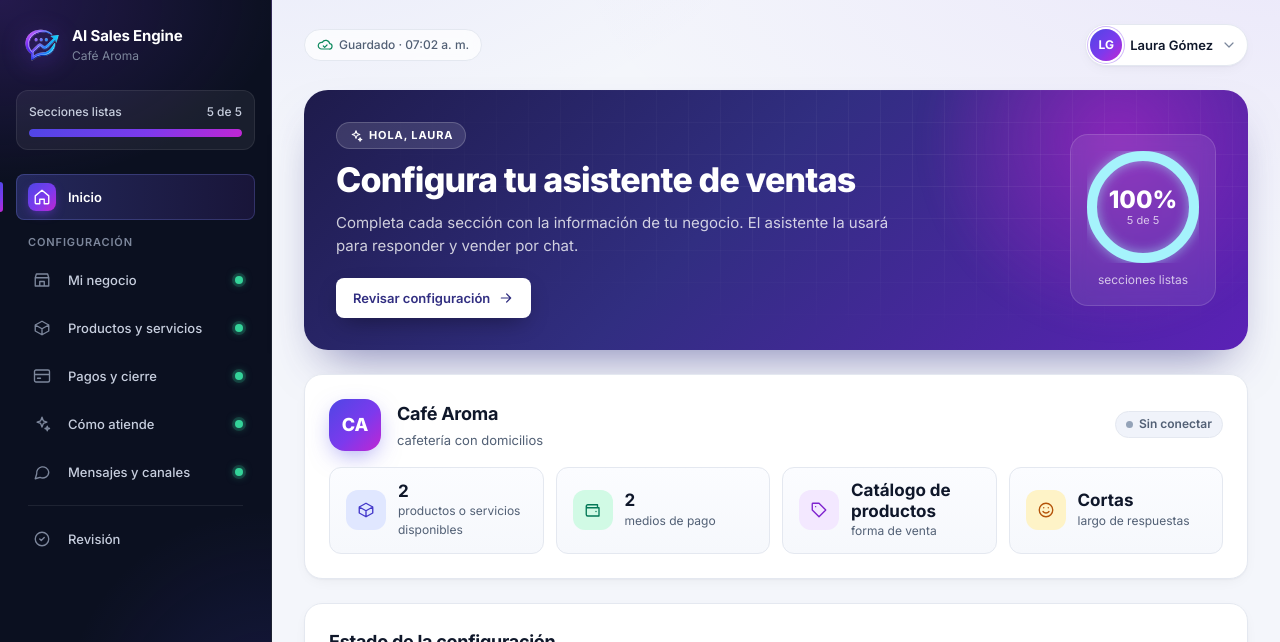
Panel de configuración › navega entre todas las secciones desde el menú lateral
Check: the heading "Configura tu asistente de ventas" is shown, box [336,161,896,199]
Click the link "Mi negocio" at (135, 285), box [27,272,243,298]
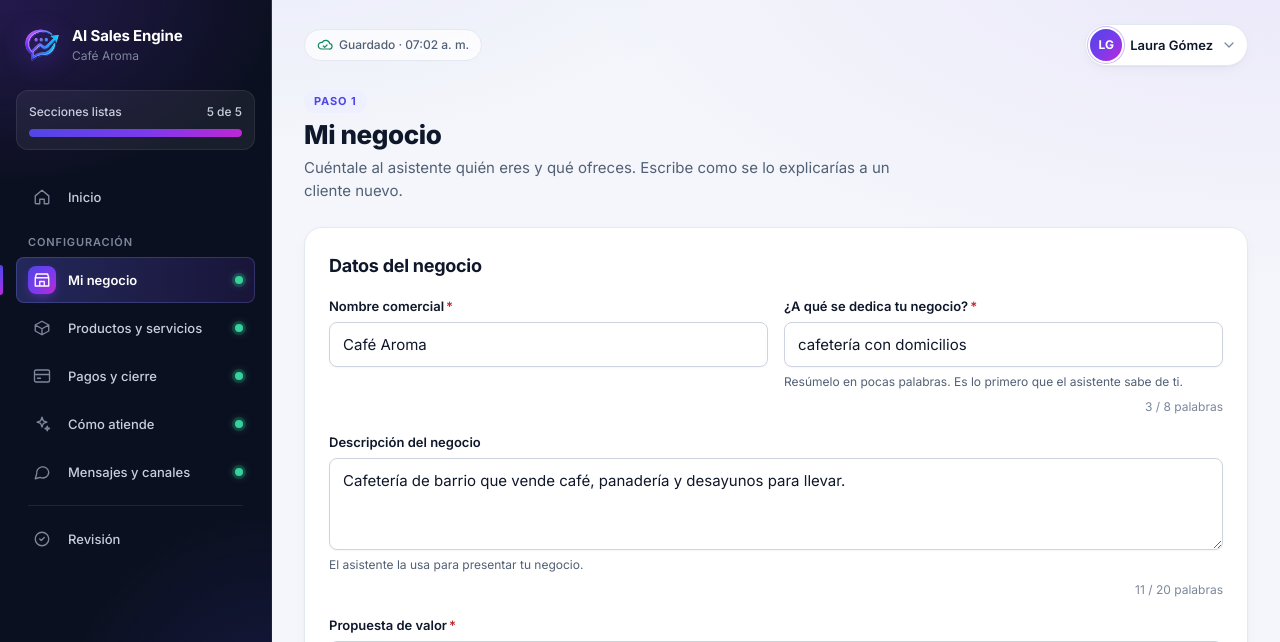
Check: the heading "Mi negocio" is shown, box [304,119,910,150]
Check: the text "Paso 1" is shown, box [304,90,367,113]
Click the link "Productos y servicios" at (135, 333), box [27,320,243,346]
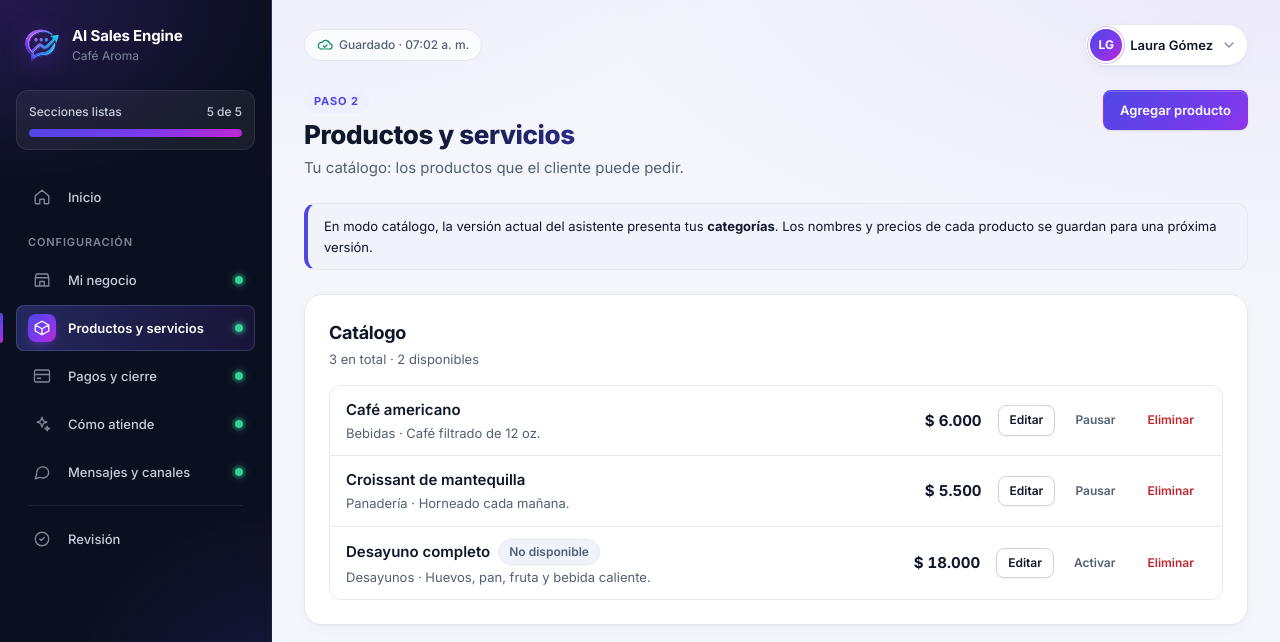
Check: the heading "Productos y servicios" is shown, box [304,119,684,150]
Check: the text "Paso 2" is shown, box [304,90,369,113]
Click the link "Pagos y cierre" at (135, 381), box [27,368,243,394]
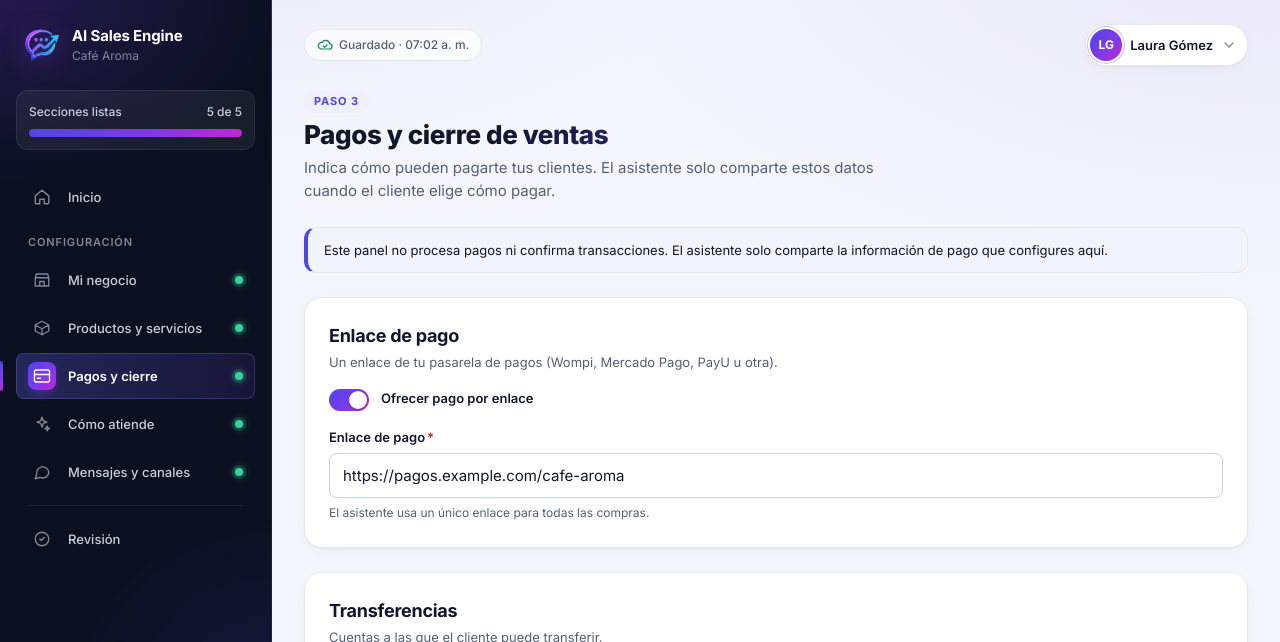
Check: the heading "Pagos y cierre de ventas" is shown, box [304,119,910,150]
Check: the text "Paso 3" is shown, box [304,90,369,113]
Click the link "Cómo atiende" at (135, 429), box [27,416,243,442]
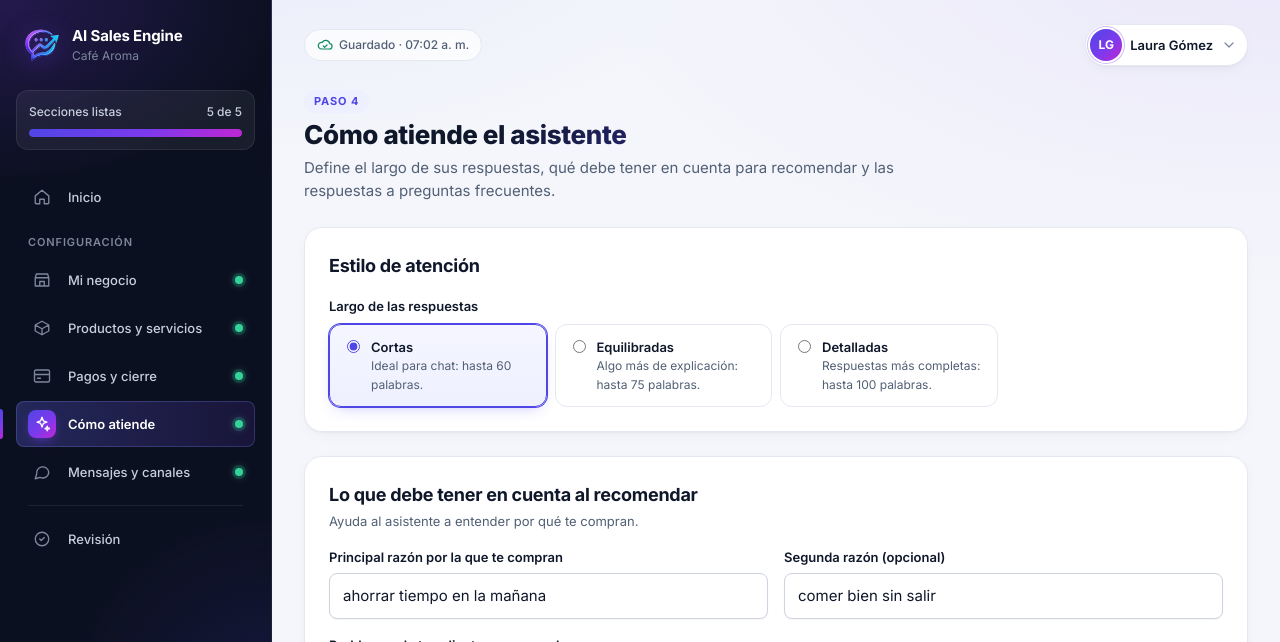
Check: the heading "Cómo atiende el asistente" is shown, box [304,119,910,150]
Check: the text "Paso 4" is shown, box [304,90,369,113]
Click the link "Mensajes y canales" at (135, 477), box [27,464,243,490]
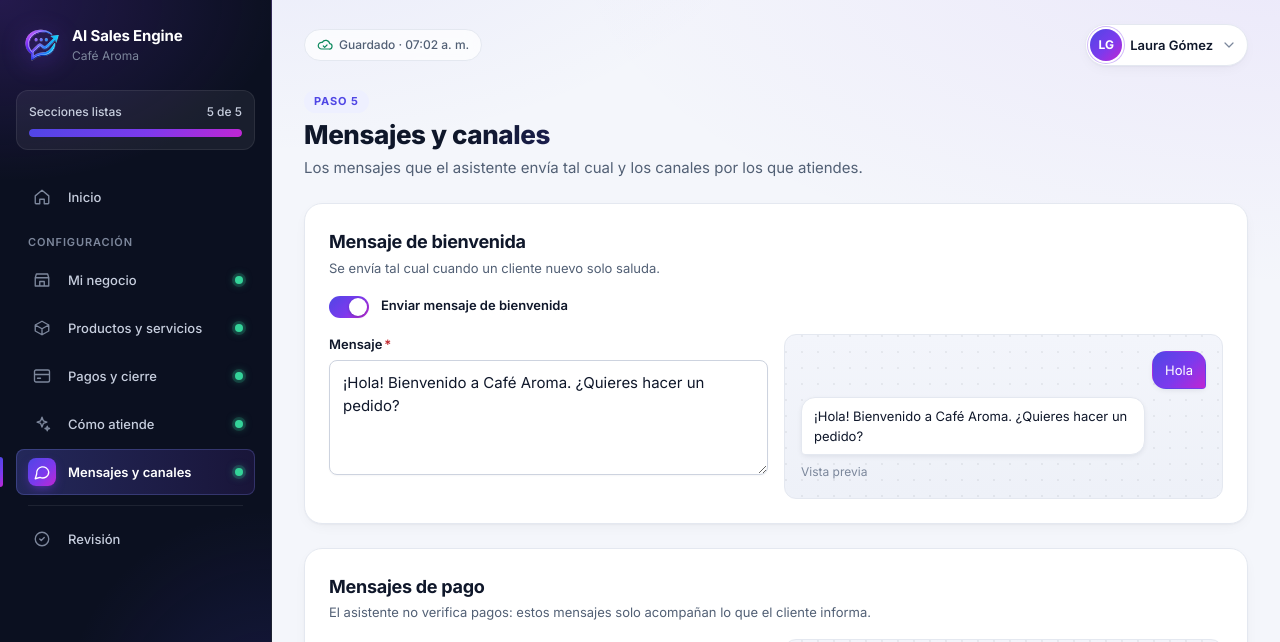
Check: the heading "Mensajes y canales" is shown, box [304,119,863,150]
Check: the text "Paso 5" is shown, box [304,90,369,113]
Click the link "Revisión" at (77, 540), box [33,530,120,548]
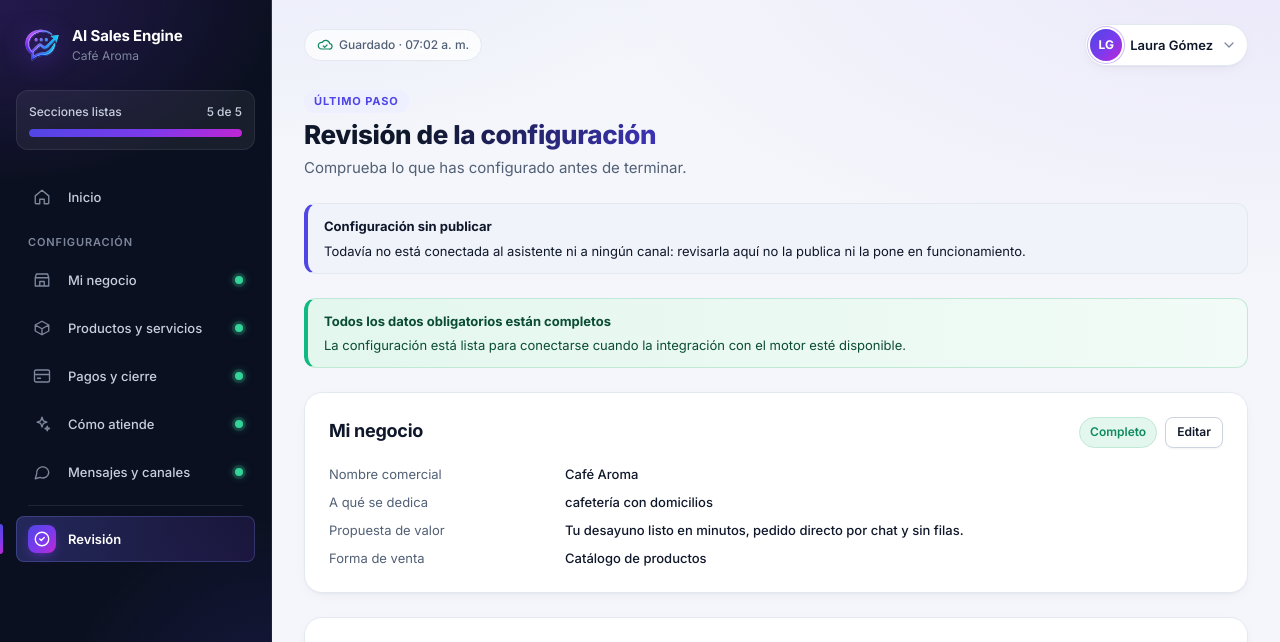
Check: the heading "Revisión de la configuración" is shown, box [304,119,686,150]
Check: the text "Último paso" is shown, box [304,90,409,113]
